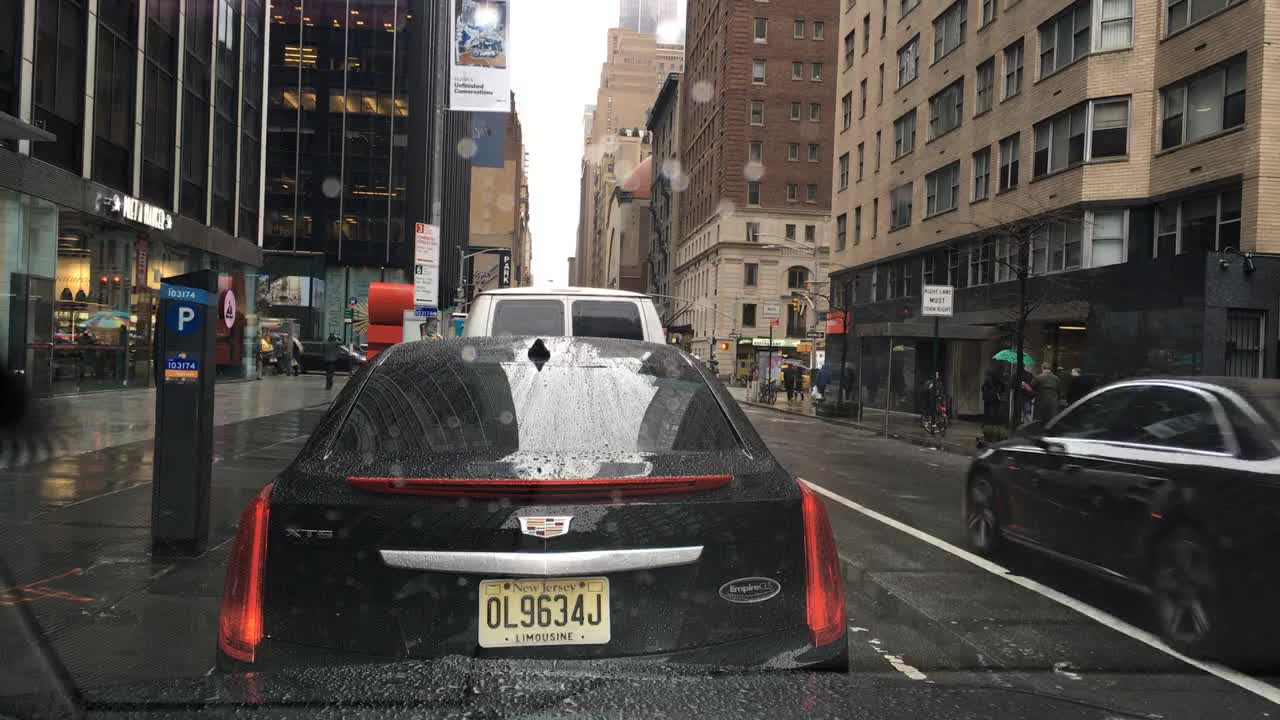bike: (918, 406, 949, 436), (758, 376, 776, 406)
car: (212, 336, 850, 673), (959, 376, 1279, 655), (464, 281, 665, 341), (296, 339, 364, 376)
person: (995, 346, 1034, 421), (980, 369, 1005, 425), (1036, 361, 1060, 419), (320, 331, 340, 389), (928, 367, 949, 416), (1065, 365, 1090, 404), (809, 365, 831, 403), (781, 358, 797, 400), (290, 338, 305, 375), (843, 361, 855, 400), (268, 335, 281, 371), (794, 360, 804, 398)
traffic light: (797, 343, 809, 351), (791, 296, 797, 310), (721, 341, 727, 351)
traffic sign: (414, 222, 439, 319), (169, 301, 199, 333), (922, 286, 954, 316), (807, 330, 824, 339), (343, 306, 351, 324), (452, 296, 466, 306), (346, 296, 356, 305), (769, 318, 779, 325)
